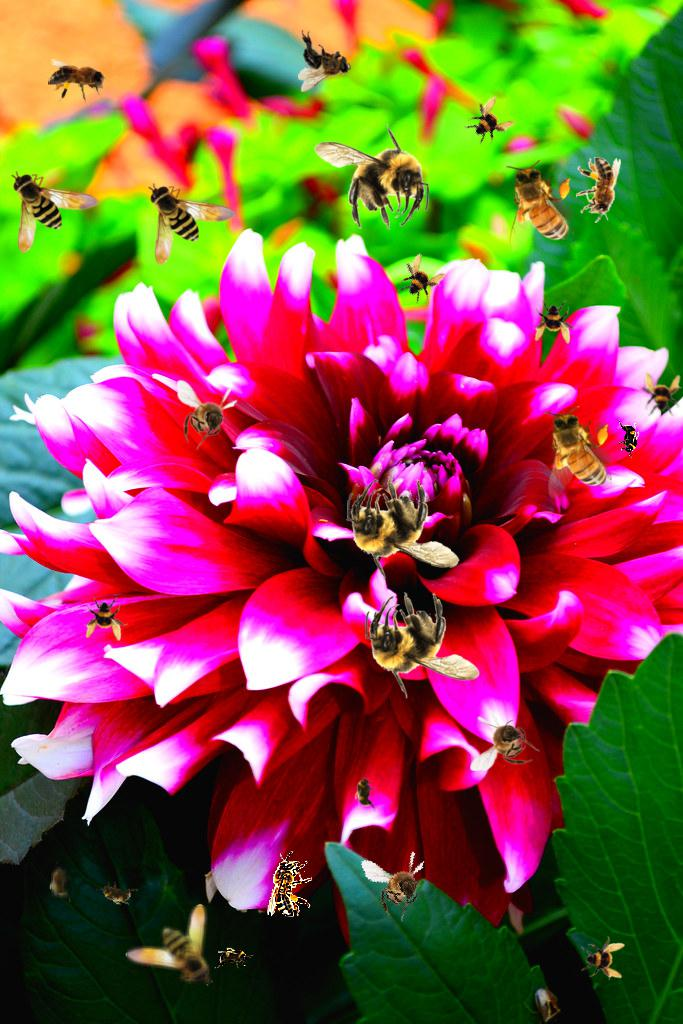Bee: (343, 474, 464, 587), (365, 592, 480, 699), (314, 123, 429, 230), (148, 183, 236, 265), (11, 171, 99, 253), (125, 904, 213, 986), (360, 841, 441, 929), (506, 160, 574, 253), (544, 406, 612, 499), (177, 380, 238, 450), (470, 710, 540, 771), (456, 89, 520, 153), (388, 248, 450, 310), (298, 30, 351, 92), (267, 851, 312, 917), (576, 157, 621, 223), (48, 59, 114, 104), (84, 597, 128, 641), (638, 372, 682, 416), (581, 936, 625, 980), (533, 300, 577, 344), (93, 876, 139, 910), (214, 947, 254, 969), (618, 419, 640, 459), (354, 772, 376, 812), (49, 862, 71, 902)
